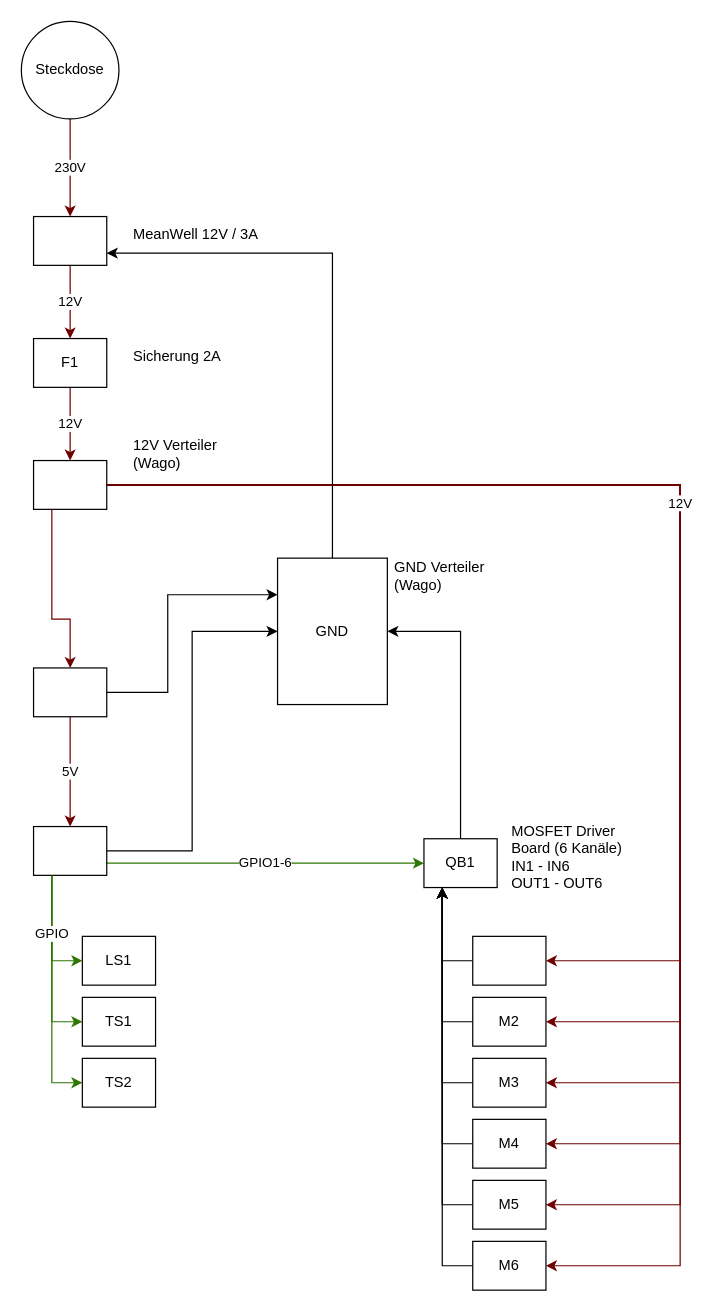
Some shapes in this 714 by 1312 pixel diagram are drawn without their labels. Each missing label, with the centre of its shape:
"DC1" belongs at (69,692).
"M1" belongs at (509,960).
"MCU1" belongs at (69,850).
"PSU1" belongs at (69,240).
